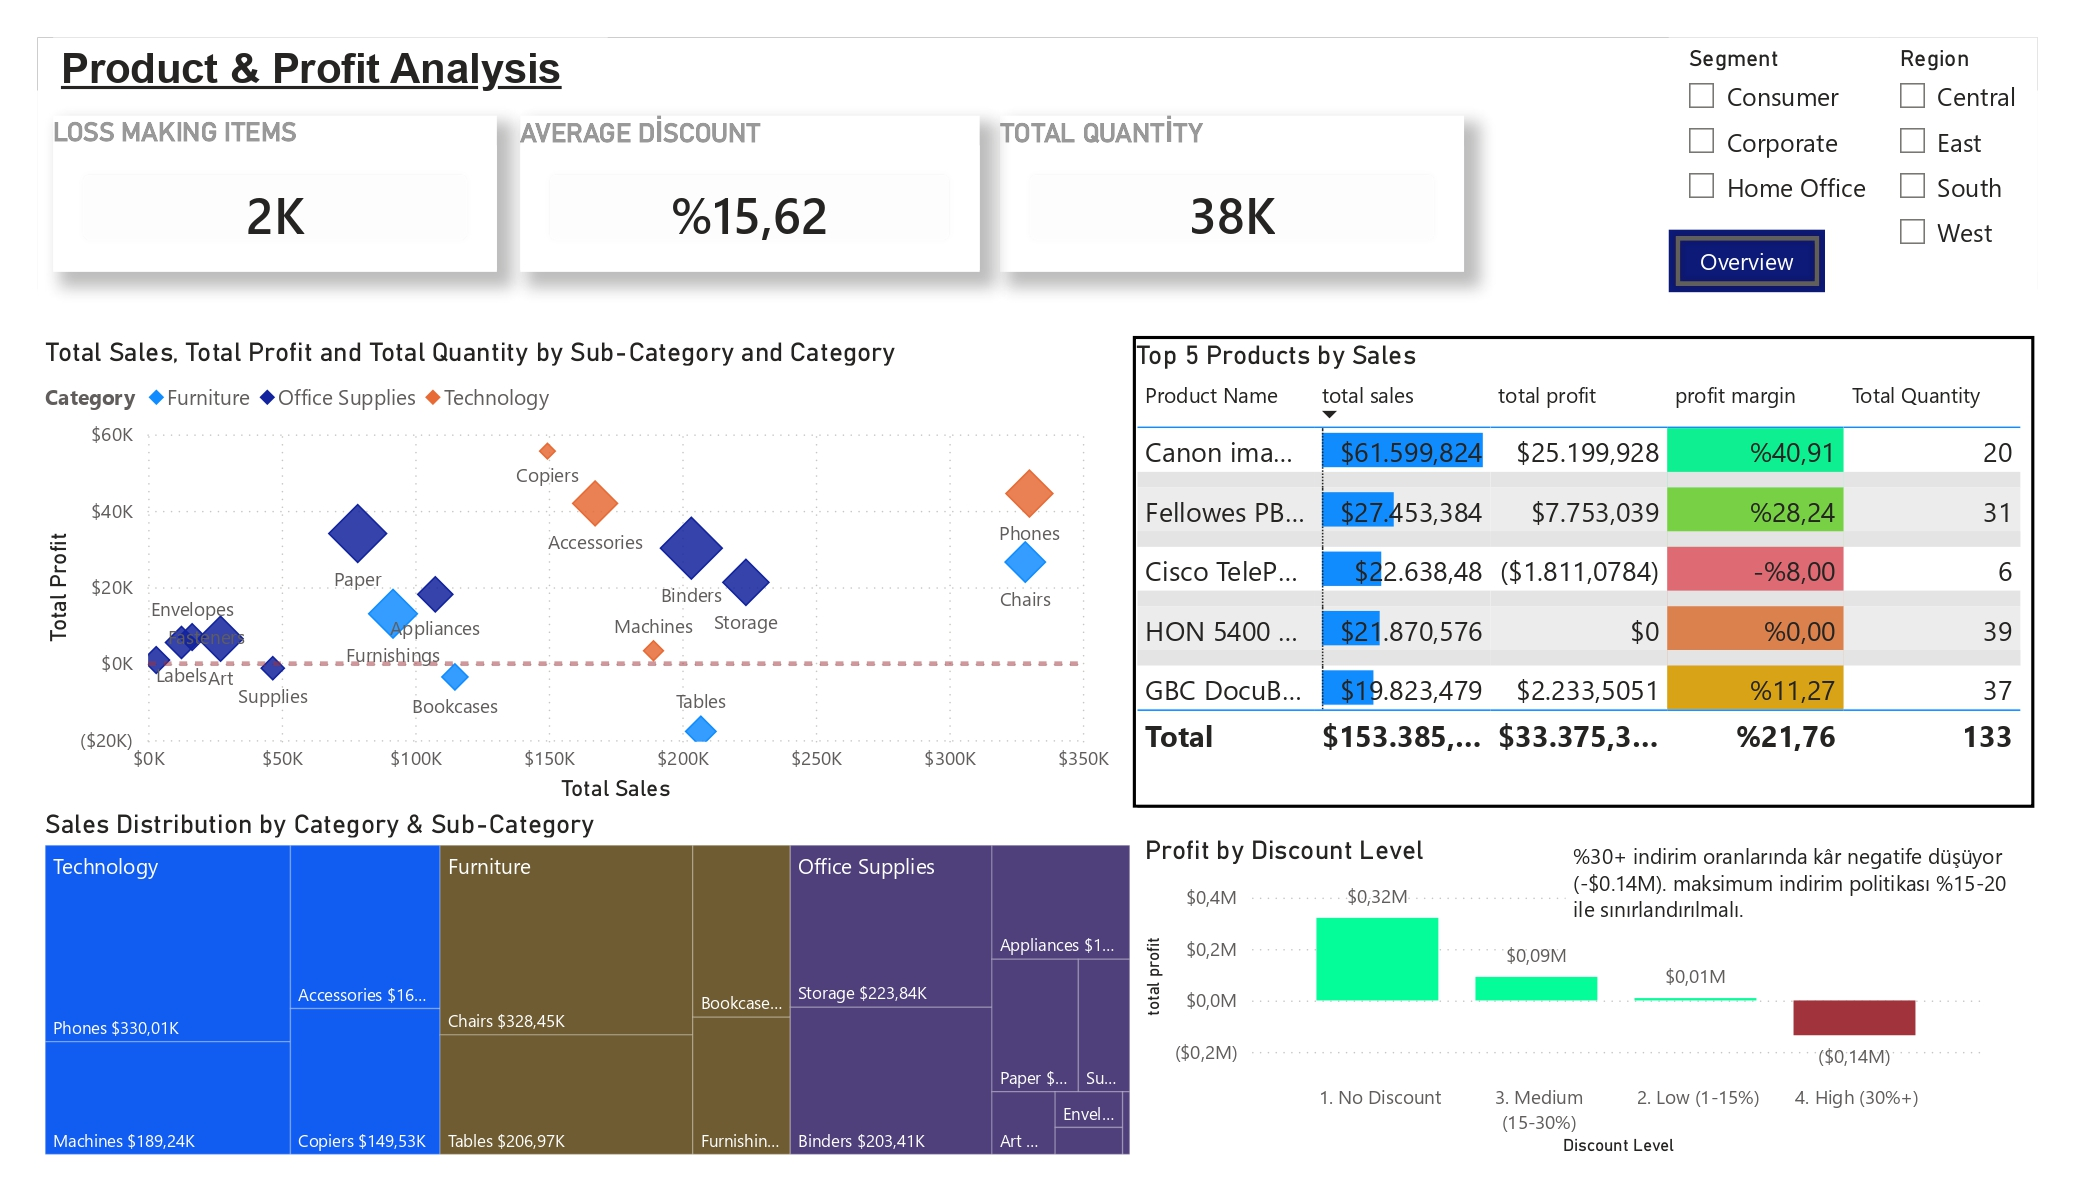

Layout of this report page (visuals, bound fields, positions):
{"tool":"powerbi","page":{"name":"Product Anaylsis","canvas":[1280,720],"ordinal":1},"visuals":[{"type":"textbox","box":[10,0,355,71.2],"z":0},{"type":"cardVisual","title":"LOSS MAKING ITEMS","fields":{"Data":["DimDate.Loss Making Items"]},"box":[10,50,283.8,100],"z":1},{"type":"cardVisual","title":"TOTAL QUANTİTY","fields":{"Data":["DimDate.Total Quantity"]},"box":[616.2,50,296.2,100],"z":2},{"type":"cardVisual","title":"AVERAGE DİSCOUNT","fields":{"Data":["DimDate.Avg Discount"]},"box":[308.8,50,293.8,100],"z":3},{"type":"scatterChart","fields":{"Category":["fact_orders.Sub-Category"],"X":["DimDate.total sales"],"Y":["DimDate.total profit"],"Size":["DimDate.Total Quantity"],"Series":["fact_orders.Category"]},"box":[0,191.2,691.2,301.2],"z":4},{"type":"tableEx","title":"Top 5 Products by Sales","fields":{"Values":["fact_orders.Product Name","DimDate.total sales","DimDate.total profit","DimDate.profit margin","DimDate.Total Quantity"]},"box":[701.2,191.2,576.2,301.2],"z":5},{"type":"treemap","title":"Sales Distribution by Category & Sub-Category","fields":{"Group":["fact_orders.Category"],"Details":["fact_orders.Sub-Category"],"Values":["DimDate.total sales"]},"box":[0,492.5,703.8,227.5],"z":6},{"type":"clusteredColumnChart","title":"Profit by Discount Level","fields":{"Category":["fact_orders.Discount Level"],"Y":["DimDate.total profit"]},"box":[703.8,510,547.5,210],"z":7},{"type":"slicer","fields":{"Values":["fact_orders.Segment"]},"box":[1043.8,0,135,150],"z":8},{"type":"slicer","fields":{"Values":["fact_orders.Region"]},"box":[1178.8,0,101.2,150],"z":9},{"type":"actionButton","box":[1043.8,122.5,100,40],"z":10},{"type":"textbox","box":[977.5,510,300,81.2],"z":11}]}

Visuals, with their boxes in screenshot pixels (x1, y1, x2, y2):
textbox: detection(69, 43, 617, 153)
"LOSS MAKING ITEMS" cardVisual: detection(69, 120, 507, 275)
"TOTAL QUANTİTY" cardVisual: detection(1004, 120, 1461, 275)
"AVERAGE DİSCOUNT" cardVisual: detection(530, 120, 983, 275)
scatterChart - fact_orders.Sub-Category x DimDate.total sales: detection(54, 338, 1120, 803)
"Top 5 Products by Sales" tableEx: detection(1135, 338, 2024, 803)
"Sales Distribution by Category & Sub-Category" treemap: detection(54, 803, 1139, 1153)
"Profit by Discount Level" clusteredColumnChart: detection(1139, 830, 1984, 1153)
slicer - fact_orders.Segment: detection(1664, 43, 1872, 275)
slicer - fact_orders.Region: detection(1872, 43, 2028, 275)
actionButton: detection(1664, 232, 1818, 294)
textbox: detection(1561, 830, 2024, 955)
